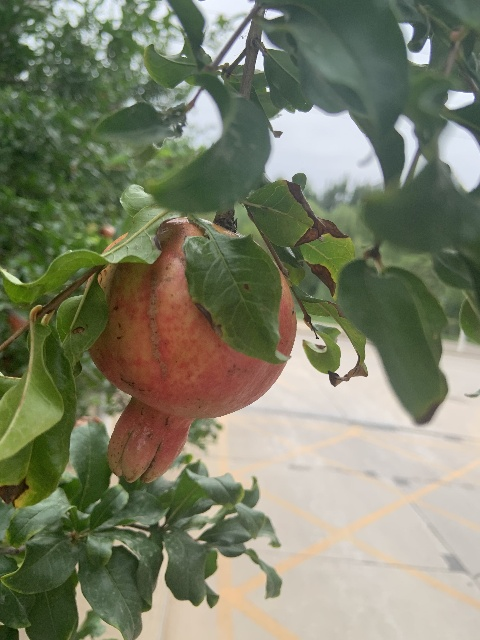ripe: (85, 217, 297, 483)
